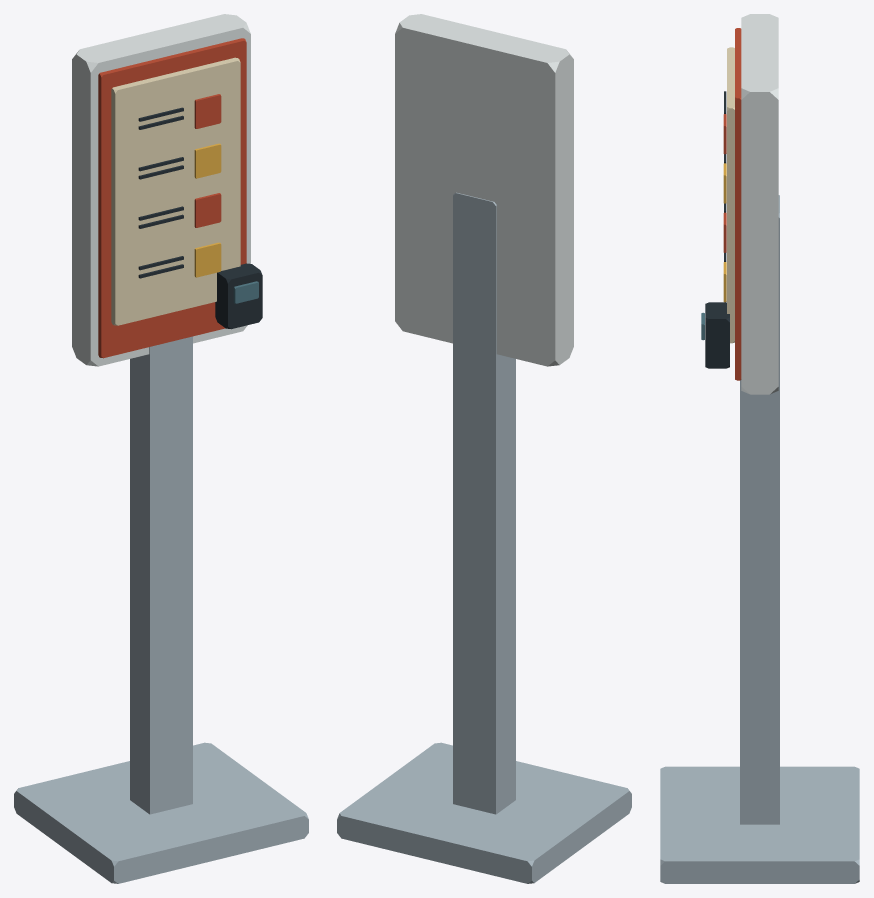
Rendered from OrderKiosk_Tall.glb.
3 views of the same model, side by side, from view 1: azimuth 30°, elevation 25°; view 2: azimuth 150°, elevation 25°; view 3: azimuth 270°, elevation 25° (orthographic).
Parts seen in each view (by area): view 1: OrderKiosk_Tall; view 2: OrderKiosk_Tall; view 3: OrderKiosk_Tall.
Part boxes in pixels (x1,y1,x2,y2): OrderKiosk_Tall: (14, 14, 308, 883); OrderKiosk_Tall: (337, 14, 631, 883); OrderKiosk_Tall: (660, 14, 859, 883).
Bounding box in the file's own units: 0.45 × 1.74 × 0.4.
